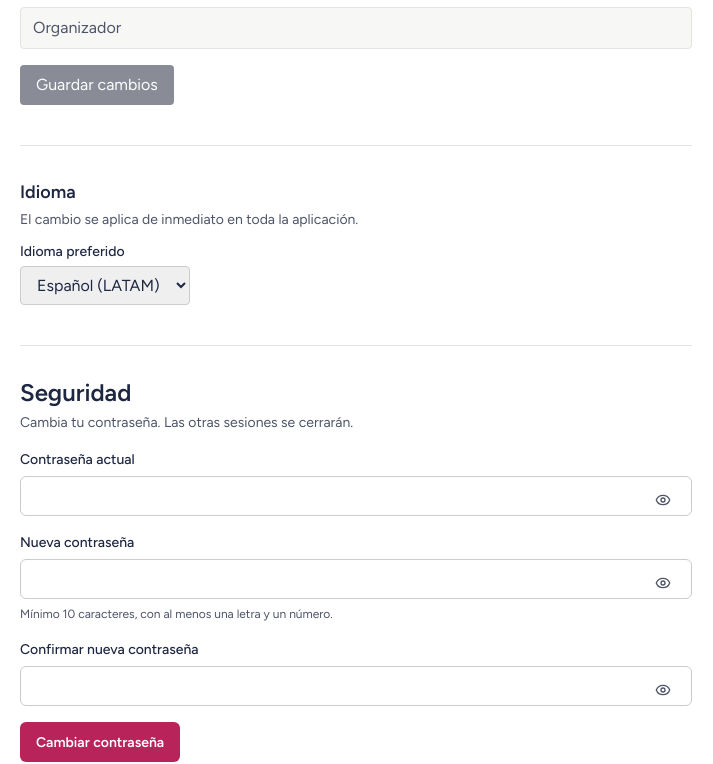
Test: US-006 — ver y editar perfil › AC-04/EC-02: 401 en change-password → mensaje de contraseña actual incorrecta
The image size is (713, 764).
(page scrolled)
In the password field labelled "Contraseña actual": {"x": 336, "y": 496} [33, 477, 639, 515], type "malaClave12"
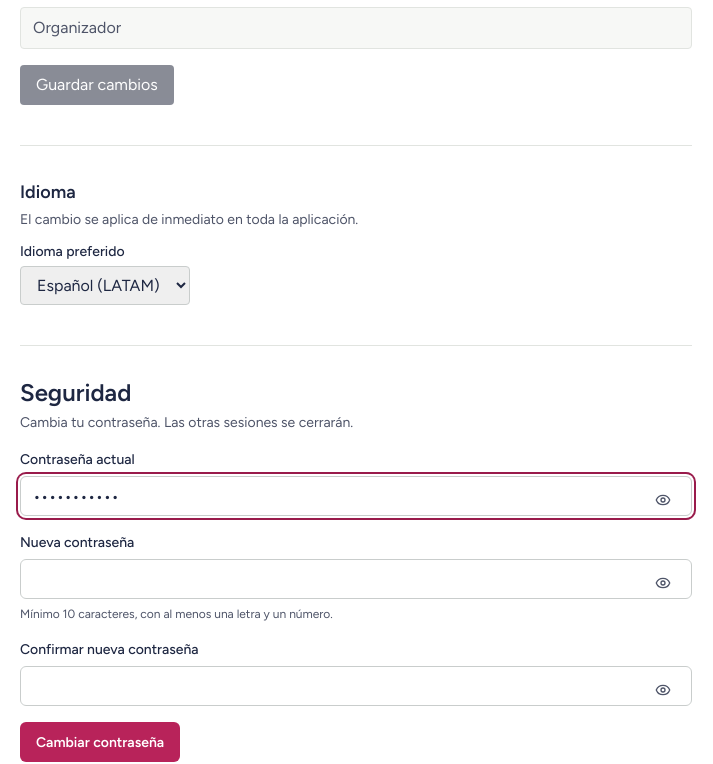
In the password field labelled "Nueva contraseña": {"x": 336, "y": 579} [33, 560, 639, 598], type "nuevaClave12"
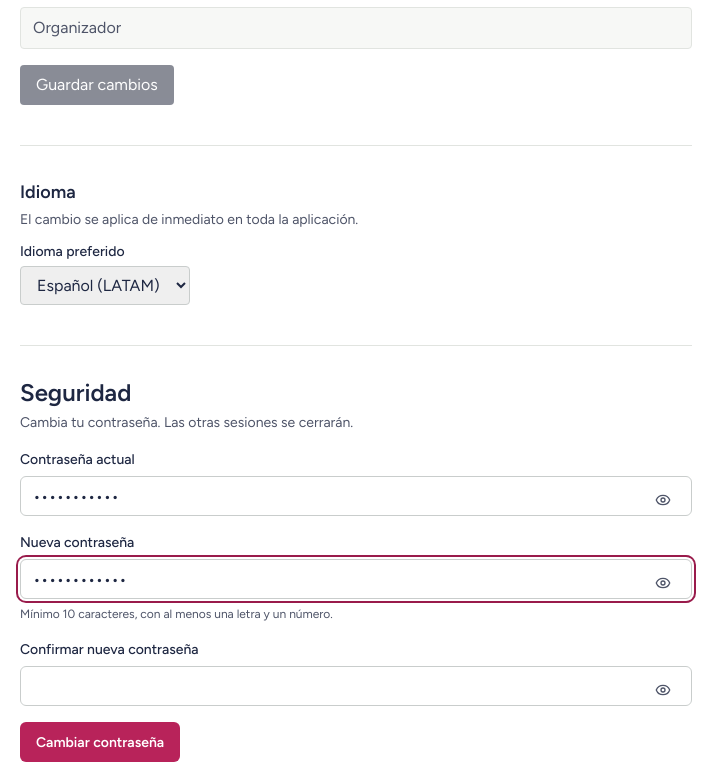
In the password field labelled "Confirmar nueva contraseña": {"x": 336, "y": 686} [33, 667, 639, 705], type "nuevaClave12"
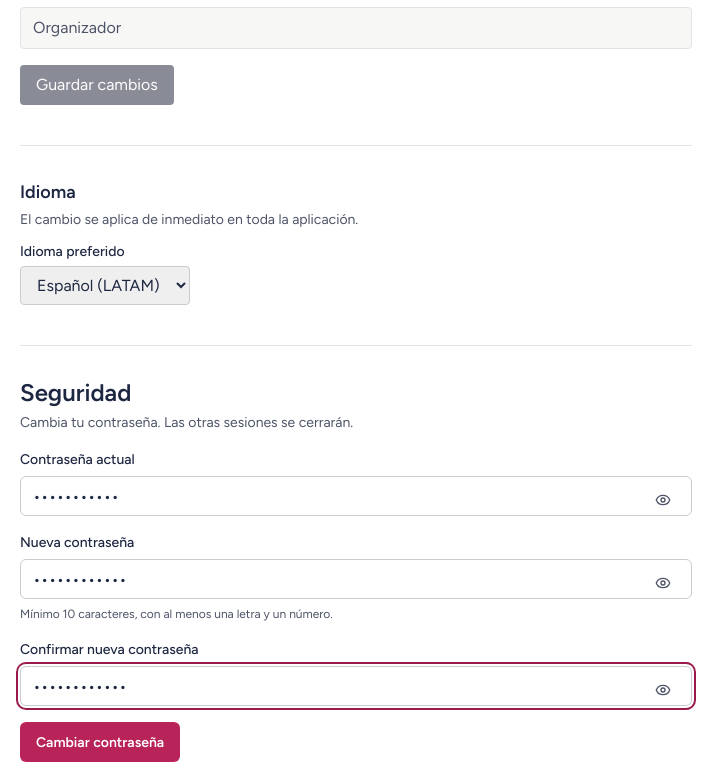
Click the button "Cambiar contraseña": {"x": 100, "y": 742} [20, 722, 180, 762]
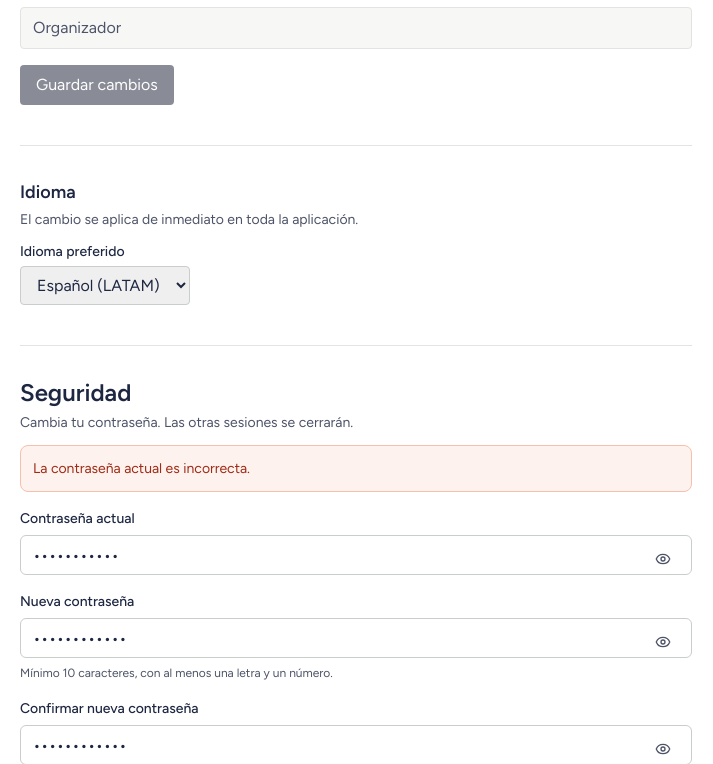
Now the message reads "La contraseña actual es incorrecta.", box [33, 460, 250, 477]
